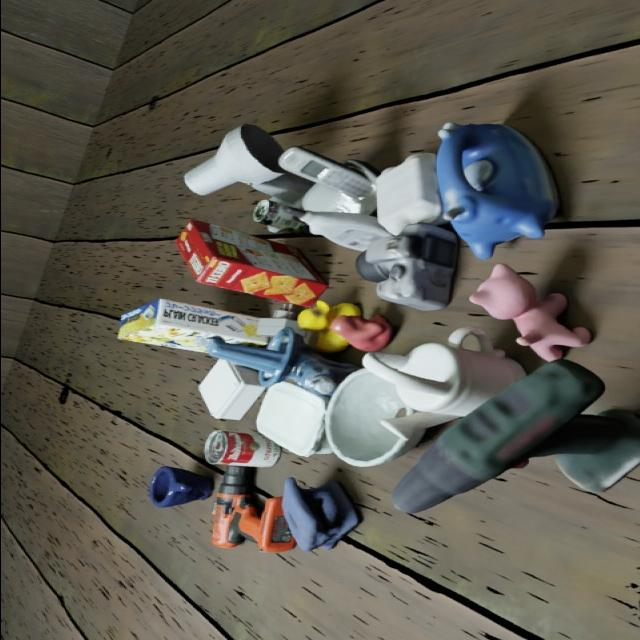Other Objects: (361, 328, 524, 439), (436, 123, 557, 257), (175, 219, 325, 304), (468, 263, 591, 360), (205, 328, 357, 400), (324, 369, 424, 466), (355, 223, 457, 310), (363, 223, 457, 310), (116, 299, 267, 352), (211, 465, 295, 552), (279, 148, 372, 213), (280, 478, 359, 550), (375, 153, 444, 234), (197, 359, 263, 420), (291, 211, 389, 250), (296, 300, 360, 352), (203, 430, 279, 466), (148, 466, 212, 507), (329, 314, 392, 351), (252, 199, 303, 232), (256, 301, 299, 336)
